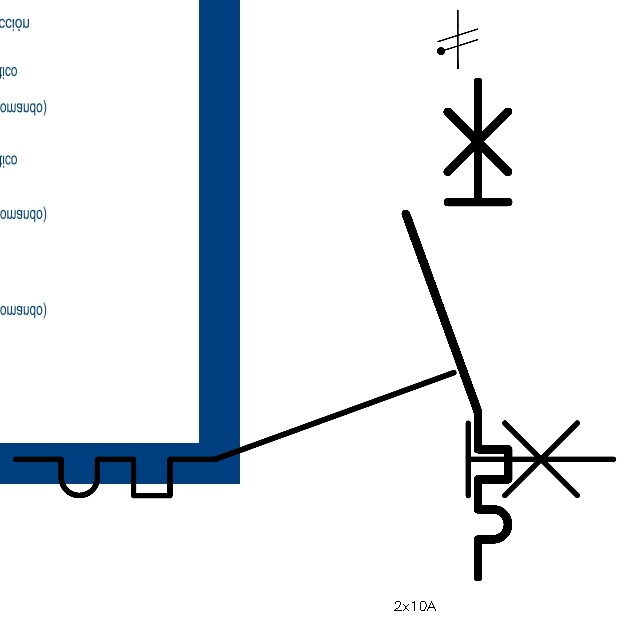interruptor_termomagnetico: (0, 357, 629, 511), (393, 68, 521, 589)
